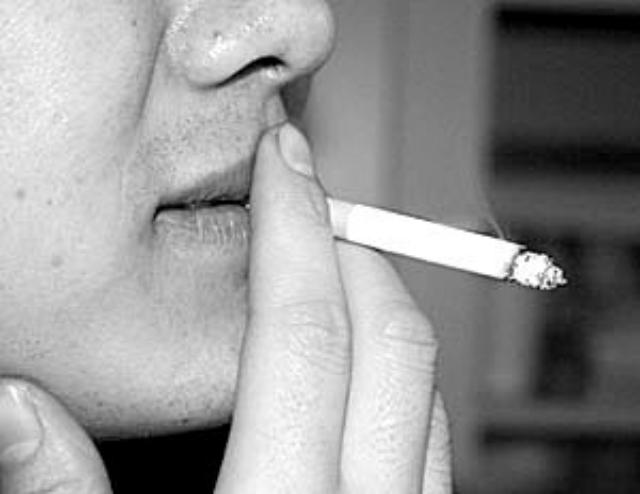Cigarette: (250, 186, 568, 292)
